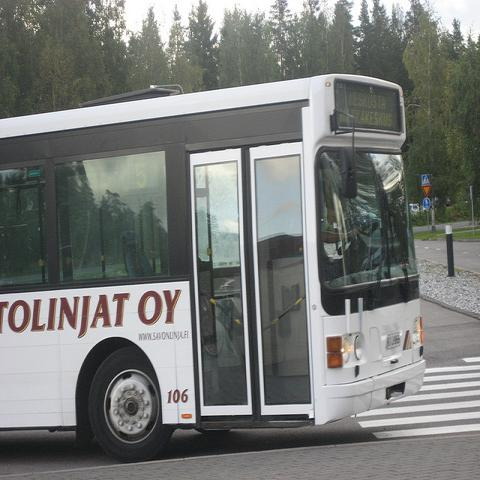bus: (2, 74, 428, 466)
